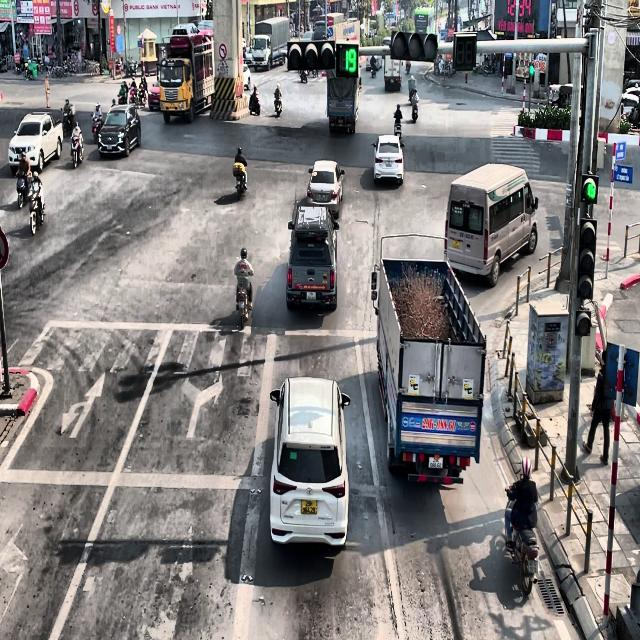lisence_plate: (400, 412, 478, 436), (300, 498, 318, 516), (428, 454, 443, 470), (458, 229, 475, 241), (305, 290, 316, 301), (451, 238, 461, 248), (318, 194, 326, 202), (337, 117, 344, 126), (386, 158, 392, 168)
